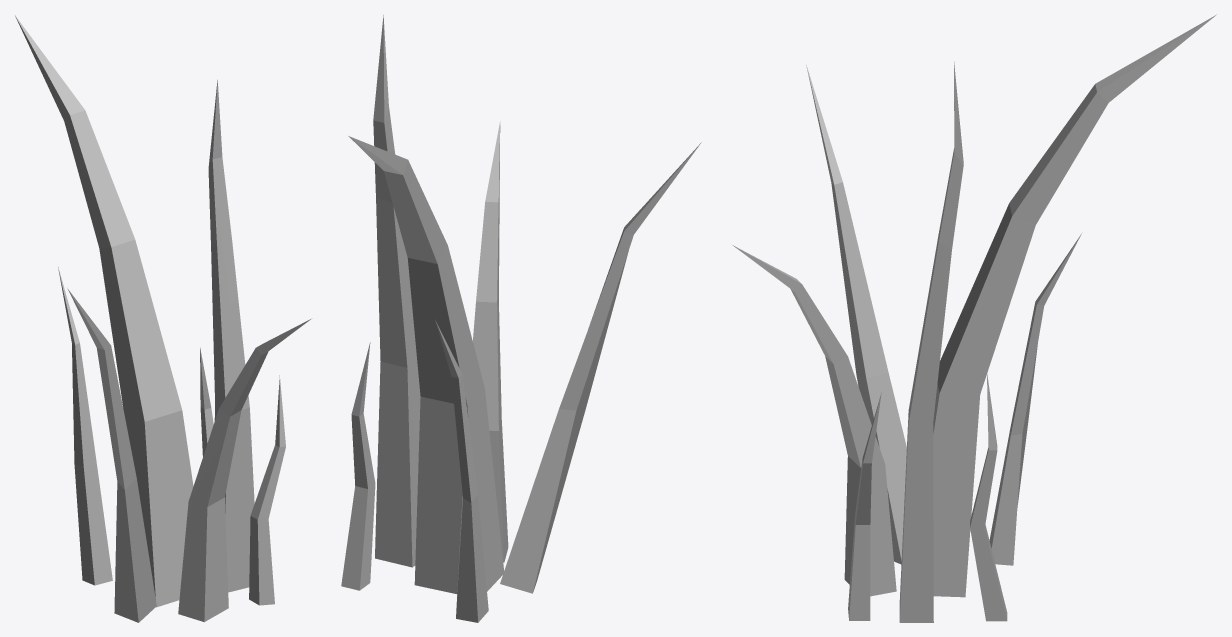
File: Grass_10.fbx
The picture shows the model from 3 angles, left to right: view 1: azimuth 30°, elevation 25°; view 2: azimuth 150°, elevation 25°; view 3: azimuth 270°, elevation 25°; orthographic projection. The views are drawn at different scales.
Parts seen in each view (by area): view 1: Grass_10; view 2: Grass_10; view 3: Grass_10.
Part boxes in pixels (x1=…): Grass_10: x1=15, y1=15, x2=310, y2=622; Grass_10: x1=341, y1=15, x2=701, y2=622; Grass_10: x1=732, y1=14, x2=1216, y2=622.
Bounding box in the file's own units: 0.7622 × 1.47 × 1.16.
